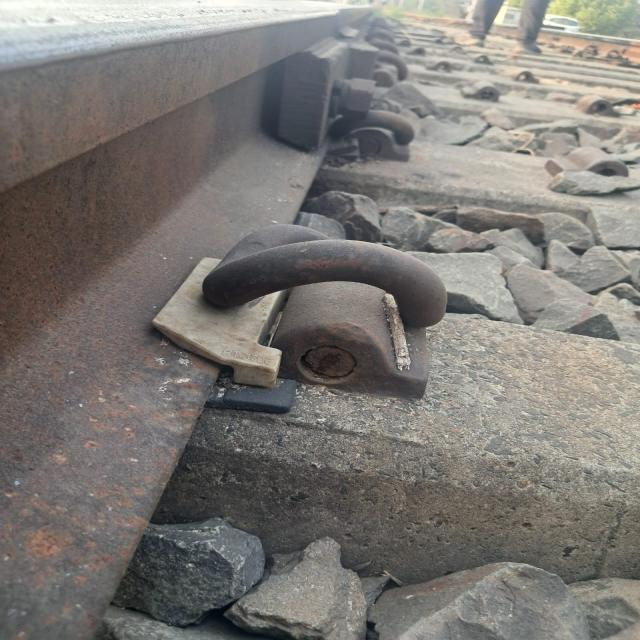underrailed: (192, 211, 513, 429)
